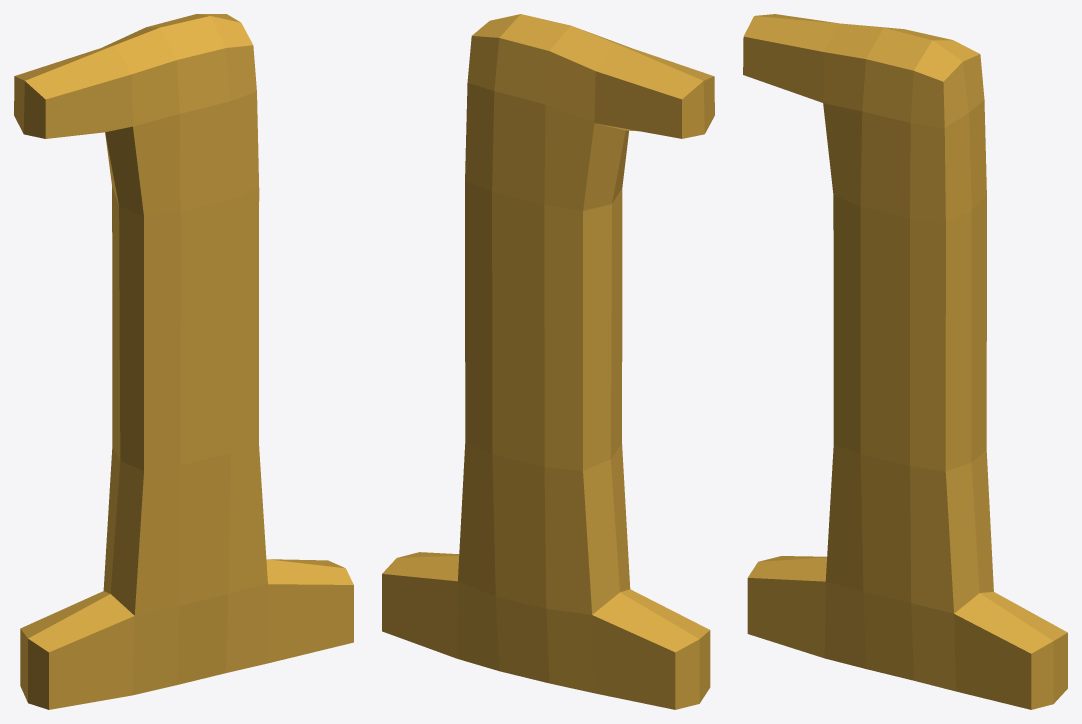
The picture shows the model from 3 angles, left to right: view 1: azimuth 30°, elevation 25°; view 2: azimuth 150°, elevation 25°; view 3: azimuth 330°, elevation 25°; orthographic projection. The views are drawn at different scales.
Parts seen in each view (by area): view 1: 1; view 2: 1; view 3: 1.
Boxes of the visible parts, bbox=[...] form: 1: bbox=[14, 14, 353, 709]; 1: bbox=[382, 14, 714, 709]; 1: bbox=[743, 14, 1067, 709].
Bounding box in the file's own units: 37.25 × 74.08 × 9.12.
